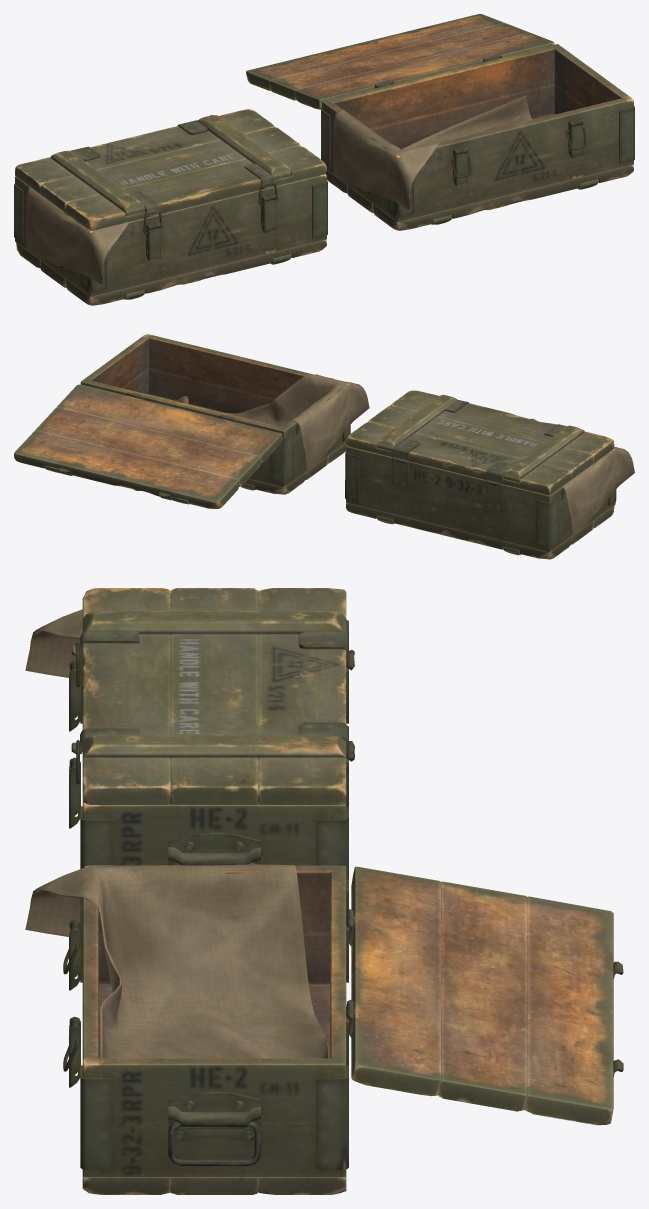
Rendered from ph2_old_military_crate.glb.
3 renders of one model, top to bottom at view 1: azimuth 30°, elevation 25°; view 2: azimuth 150°, elevation 25°; view 3: azimuth 270°, elevation 25°, orthographic. The views are drawn at different scales.
Visible parts, largest first — view 1: old_military_crate_b, old_military_crate_lid_a, old_military_crate_a, old_military_crate_lid_b, old_military_crate_cloth_b, old_military_crate_cloth_a, old_military_crate_latch_a, old_military_crate_latch_b; view 2: old_military_crate_lid_b, old_military_crate_lid_a, old_military_crate_a, old_military_crate_b, old_military_crate_cloth_b, old_military_crate_cloth_a; view 3: old_military_crate_lid_a, old_military_crate_lid_b, old_military_crate_b, old_military_crate_cloth_b, old_military_crate_a, old_military_crate_cloth_a, old_military_crate_latch_b, old_military_crate_latch_a.
Part boxes in pixels (x1,y1,x2,y2): old_military_crate_b: (321, 44, 634, 230); old_military_crate_lid_a: (15, 109, 326, 230); old_military_crate_a: (14, 174, 327, 305); old_military_crate_lid_b: (246, 14, 554, 109); old_military_crate_cloth_b: (333, 95, 532, 209); old_military_crate_cloth_a: (26, 187, 129, 284); old_military_crate_latch_a: (146, 194, 276, 261); old_military_crate_latch_b: (453, 119, 583, 186); old_military_crate_lid_b: (14, 384, 282, 508); old_military_crate_lid_a: (346, 390, 614, 495); old_military_crate_a: (345, 446, 616, 559); old_military_crate_b: (80, 334, 350, 494); old_military_crate_cloth_b: (174, 374, 369, 470); old_military_crate_cloth_a: (562, 447, 634, 535); old_military_crate_lid_a: (71, 588, 354, 804); old_military_crate_lid_b: (346, 866, 623, 1125); old_military_crate_b: (80, 865, 354, 1194); old_military_crate_cloth_b: (25, 864, 329, 1058); old_military_crate_a: (80, 619, 354, 879); old_military_crate_cloth_a: (25, 609, 82, 677); old_military_crate_latch_b: (69, 919, 80, 1087); old_military_crate_latch_a: (69, 660, 80, 828).
Bounding box in the file's own units: 1.82 × 0.3009 × 0.9757.
Materials: 1 (1 with a texture image).
